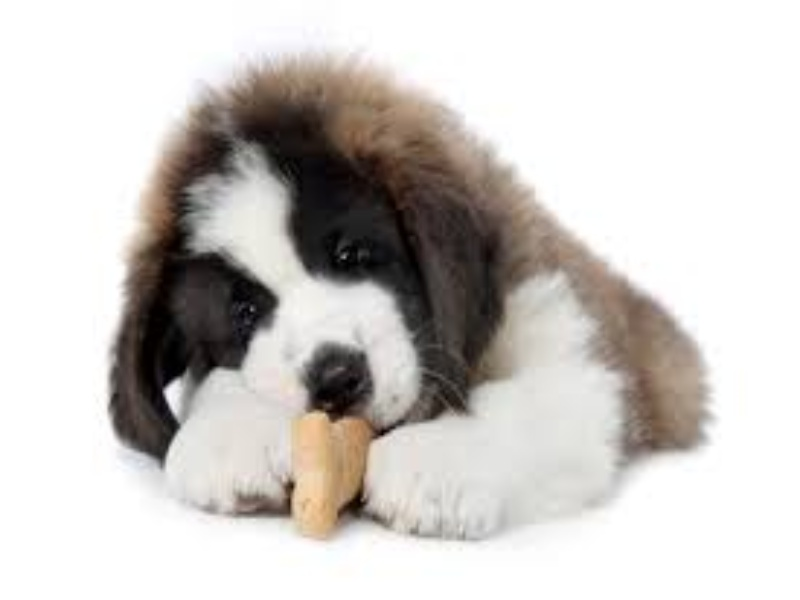dog: (92, 53, 729, 545)
